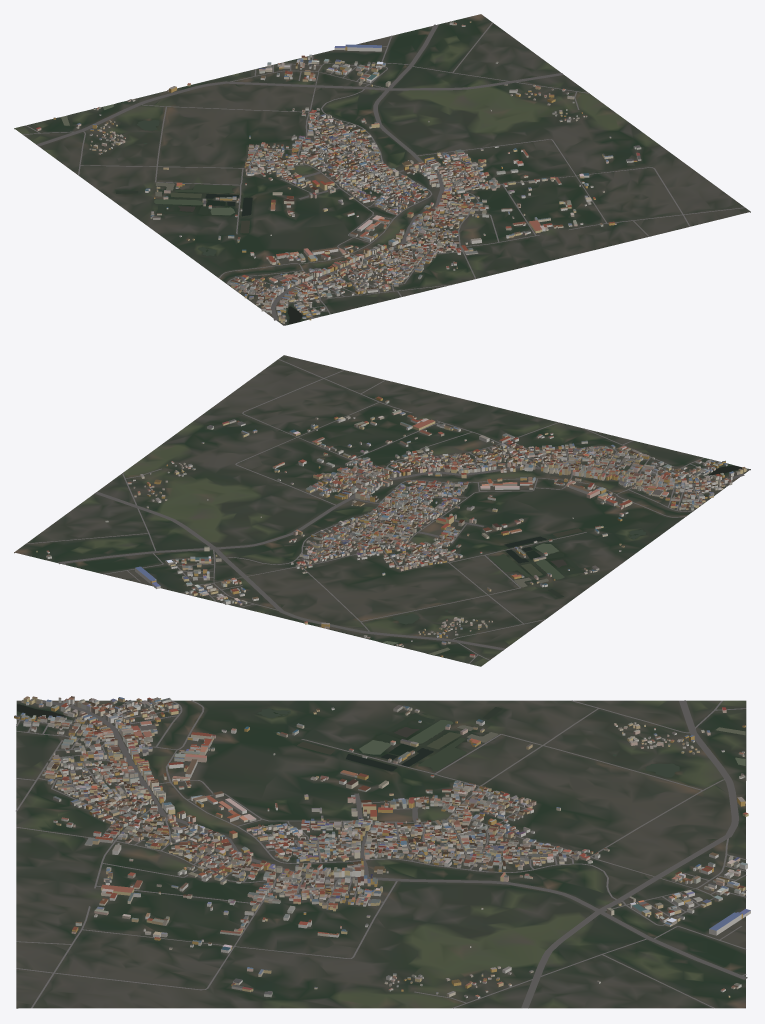
3 views of the same model, one above another, from view 1: azimuth 30°, elevation 25°; view 2: azimuth 150°, elevation 25°; view 3: azimuth 270°, elevation 25° (orthographic). The views are drawn at different scales.
Parts seen in each view (by area): view 1: ground, buildings, roads, water; view 2: ground, buildings, roads, water; view 3: ground, buildings, roads, water.
Boxes of the visible parts, <box> form: ground: <box>14,14,750,325</box>; buildings: <box>36,21,641,323</box>; roads: <box>23,22,745,320</box>; water: <box>61,104,302,324</box>; ground: <box>14,355,750,666</box>; buildings: <box>36,396,747,657</box>; roads: <box>26,359,744,663</box>; water: <box>382,465,741,655</box>; ground: <box>16,700,746,1008</box>; buildings: <box>14,696,750,998</box>; roads: <box>16,700,747,1008</box>; water: <box>17,704,745,777</box>.
Bounding box in the file's own units: 1408 × 21.62 × 1416.
